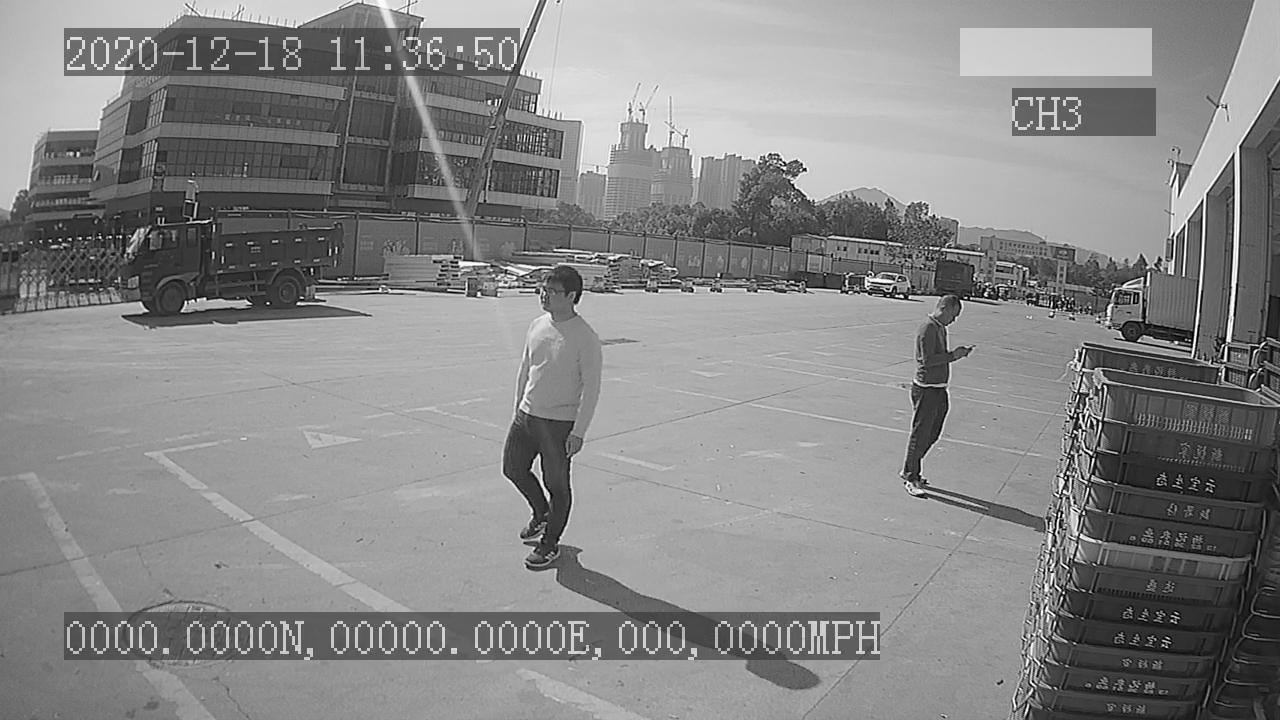person: (493, 263, 612, 567), (896, 290, 977, 499)
